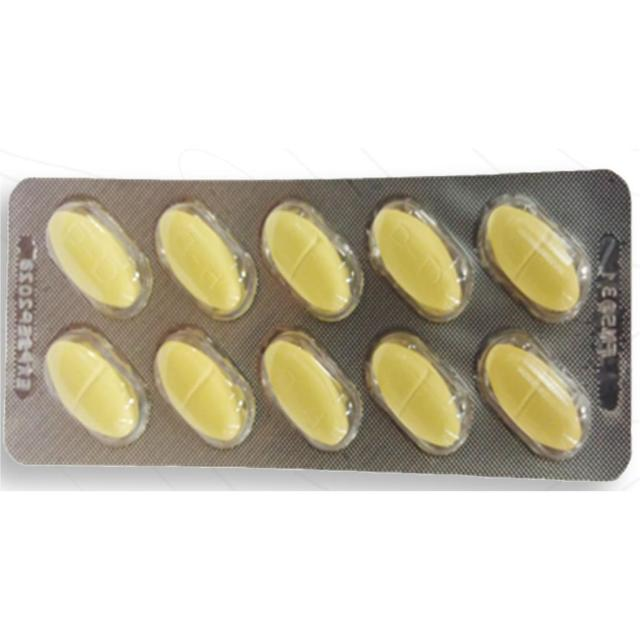blister: (5, 167, 639, 485)
